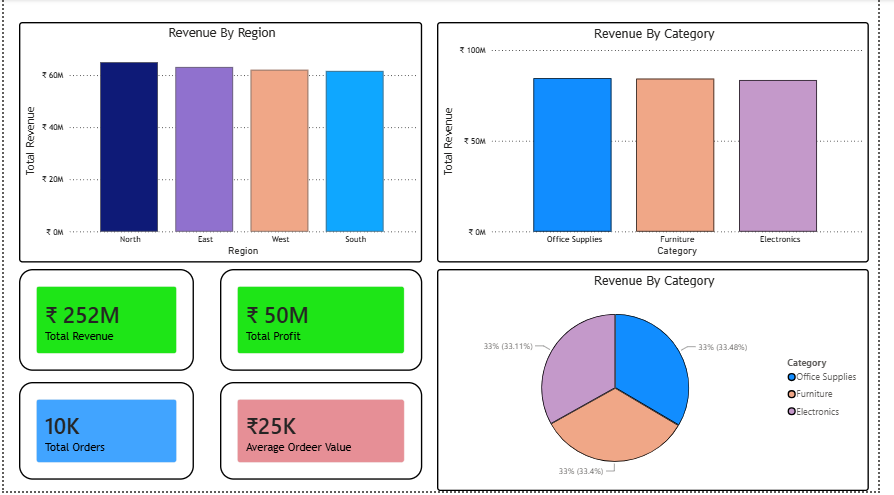

The dashboard page shown, as its layout file describes it:
{"tool":"powerbi","page":{"name":"S1 Foundation","canvas":[1280,720],"ordinal":0},"visuals":[{"type":"cardVisual","fields":{"Data":["Measures Table.Total Revenue"]},"box":[22,395.1,256.1,149.3],"z":0},{"type":"cardVisual","fields":{"Data":["Measures Table.Total Profit"]},"box":[316.1,395.1,295.6,149.3],"z":1000},{"type":"cardVisual","fields":{"Data":["Measures Table.Total Orders"]},"box":[22,560.5,256.1,143.4],"z":2000},{"type":"cardVisual","fields":{"Data":["Measures Table.Average Ordeer Value"]},"box":[316.7,560,295.6,143.3],"z":3000},{"type":"columnChart","title":"Revenue By Category","fields":{"Y":["Measures Table.Total Revenue"],"Category":["Sales.Category"]},"box":[633.3,33.3,631.7,351.7],"z":4000},{"type":"columnChart","title":"Revenue By Region","fields":{"Y":["Measures Table.Total Revenue"],"Category":["Sales.Region"]},"box":[21.7,33.3,590,351.7],"z":5000},{"type":"pieChart","title":"Revenue By Category","fields":{"Category":["Sales.Category"],"Y":["Measures Table.Revenue Contribution %"]},"box":[633.3,395,631.7,325],"z":6000}]}

Visuals, with their boxes in screenshot pixels (x1, y1, x2, y2), scaled from the page's 1280x720 canvas onto the 894x495 screenshot:
cardVisual - Measures Table.Total Revenue: <box>15,272,194,374</box>
cardVisual - Measures Table.Total Profit: <box>221,272,427,374</box>
cardVisual - Measures Table.Total Orders: <box>15,385,194,484</box>
cardVisual - Measures Table.Average Ordeer Value: <box>221,385,428,484</box>
"Revenue By Category" columnChart: <box>442,23,884,265</box>
"Revenue By Region" columnChart: <box>15,23,427,265</box>
"Revenue By Category" pieChart: <box>442,272,884,494</box>
